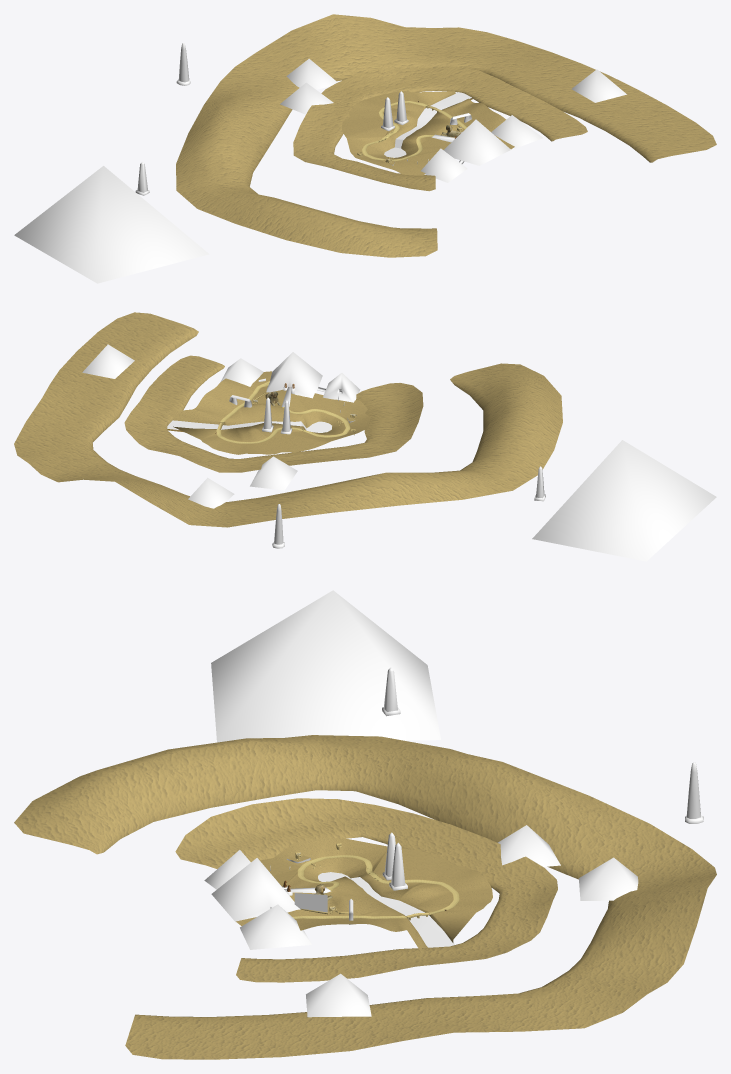
Rendered from sandtrack_track.glb.
The picture shows the model from 3 angles, top to bottom: view 1: azimuth 30°, elevation 25°; view 2: azimuth 150°, elevation 25°; view 3: azimuth 270°, elevation 25°; orthographic projection. The views are drawn at different scales.
Visible parts, largest first — view 1: sand.jpg__, pyramidwall.jpg__, bumpy_surface.png__, oasis-water.png__, road.jpg__; view 2: sand.jpg__, pyramidwall.jpg__, bumpy_surface.png__, road.jpg__, oasis-water.png__; view 3: sand.jpg__, pyramidwall.jpg__, bumpy_surface.png__, oasis-water.png__, road.jpg__.
Part boxes in pixels (x1,y1,x2,y2): sand.jpg__: (176, 14, 716, 257); pyramidwall.jpg__: (14, 58, 626, 283); bumpy_surface.png__: (137, 43, 454, 192); oasis-water.png__: (384, 92, 471, 157); road.jpg__: (362, 101, 467, 161); sand.jpg__: (14, 312, 562, 527); pyramidwall.jpg__: (82, 344, 716, 561); bumpy_surface.png__: (263, 382, 544, 544); road.jpg__: (216, 381, 350, 443); oasis-water.png__: (167, 420, 331, 432); sand.jpg__: (14, 735, 716, 1059); pyramidwall.jpg__: (204, 590, 638, 1017); bumpy_surface.png__: (269, 667, 700, 909); oasis-water.png__: (318, 872, 454, 947); road.jpg__: (292, 855, 459, 918).
Size of the model in its own units: 1832 by 233 by 1287.
16 materials, 7 textured.
